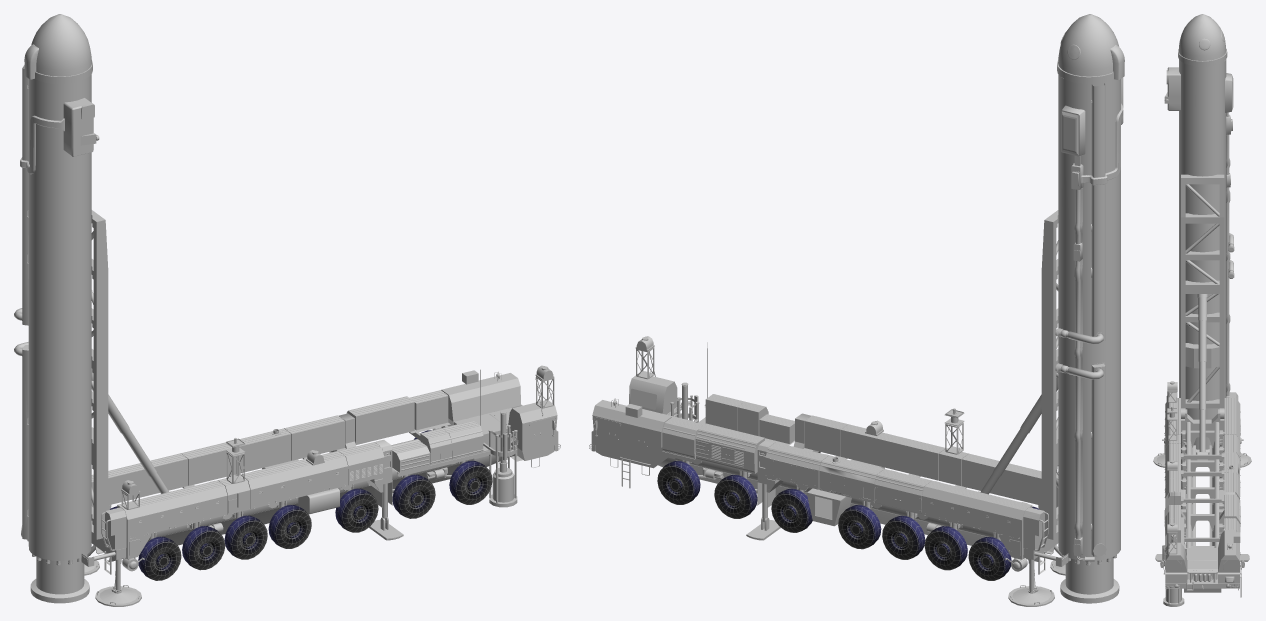
Rendered from SS-25 Sickle_new.fbx.
The picture shows the model from 3 angles, left to right: view 1: azimuth 30°, elevation 25°; view 2: azimuth 150°, elevation 25°; view 3: azimuth 270°, elevation 25°; orthographic projection. The views are drawn at different scales.
Visible parts, largest first — view 1: SS_25_Sikle_01, Gun, SS_25_Sikle_04, SS-25 Sickle_wheel_005, SS-25 Sickle_wheel_002, SS-25 Sickle_wheel_004, SS-25 Sickle_wheel_01, SS-25 Sickle_wheel_006, SS-25 Sickle_wheel_003, SS-25 Sickle_wheel_007, GunBase; view 2: SS_25_Sikle_01, Gun, SS_25_Sikle_04, SS-25 Sickle_wheel_009, SS-25 Sickle_wheel_010, SS-25 Sickle_wheel_013, SS-25 Sickle_wheel_011, SS-25 Sickle_wheel_014, SS-25 Sickle_wheel_008, SS-25 Sickle_wheel_012, GunBase; view 3: Gun, SS_25_Sikle_01, SS_25_Sikle_04, GunBase.
Boxes of the visible parts, left/top/right/bottom form: SS_25_Sikle_01: left=81, top=365, right=560, bottom=606; Gun: left=14, top=61, right=108, bottom=603; SS_25_Sikle_04: left=24, top=14, right=91, bottom=79; SS-25 Sickle_wheel_005: left=224, top=515, right=267, bottom=559; SS-25 Sickle_wheel_002: left=392, top=474, right=435, bottom=518; SS-25 Sickle_wheel_004: left=268, top=505, right=311, bottom=548; SS-25 Sickle_wheel_01: left=449, top=460, right=492, bottom=504; SS-25 Sickle_wheel_006: left=182, top=526, right=225, bottom=570; SS-25 Sickle_wheel_003: left=335, top=488, right=378, bottom=532; SS-25 Sickle_wheel_007: left=138, top=536, right=181, bottom=580; GunBase: left=91, top=368, right=168, bottom=493; SS_25_Sikle_01: left=589, top=336, right=1068, bottom=606; Gun: left=1041, top=60, right=1123, bottom=603; SS_25_Sikle_04: left=1058, top=14, right=1124, bottom=79; SS-25 Sickle_wheel_009: left=924, top=526, right=967, bottom=570; SS-25 Sickle_wheel_010: left=882, top=515, right=925, bottom=559; SS-25 Sickle_wheel_013: left=714, top=474, right=757, bottom=518; SS-25 Sickle_wheel_011: left=838, top=505, right=881, bottom=549; SS-25 Sickle_wheel_014: left=657, top=461, right=700, bottom=504; SS-25 Sickle_wheel_008: left=968, top=536, right=1011, bottom=580; SS-25 Sickle_wheel_012: left=771, top=488, right=812, bottom=532; GunBase: left=980, top=372, right=1058, bottom=494; Gun: left=1164, top=48, right=1234, bottom=454; SS_25_Sikle_01: left=1153, top=381, right=1251, bottom=606; SS_25_Sikle_04: left=1178, top=14, right=1226, bottom=60; GunBase: left=1197, top=294, right=1207, bottom=460.
Size of the model in its own units: 8.97 by 9.64 by 1.98.
